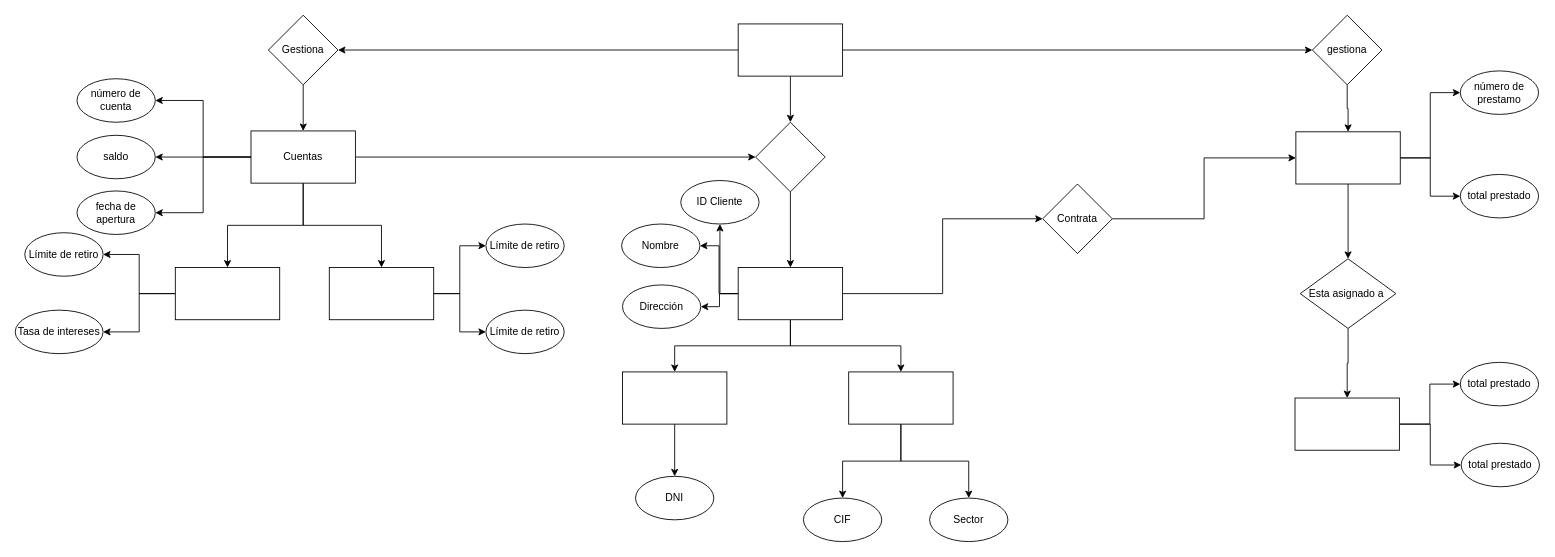
The diagram is 1555 pixels wide and 557 high, and some of its shapes have lost their labels. Here are the shapes that lost their labels. From the top down, the centre of each, then its label:
At point 790,49: "Banco".
At point 790,156: "Tiene".
At point 1347,157: "prestamos".
At point 227,293: "Cuentas Ahorro".
At point 381,293: "Cuentas clientes".
At point 790,293: "Clientes".
At point 674,397: "Particular".
At point 900,397: "Empresa".
At point 1346,423: "Oficial de prestamos".
